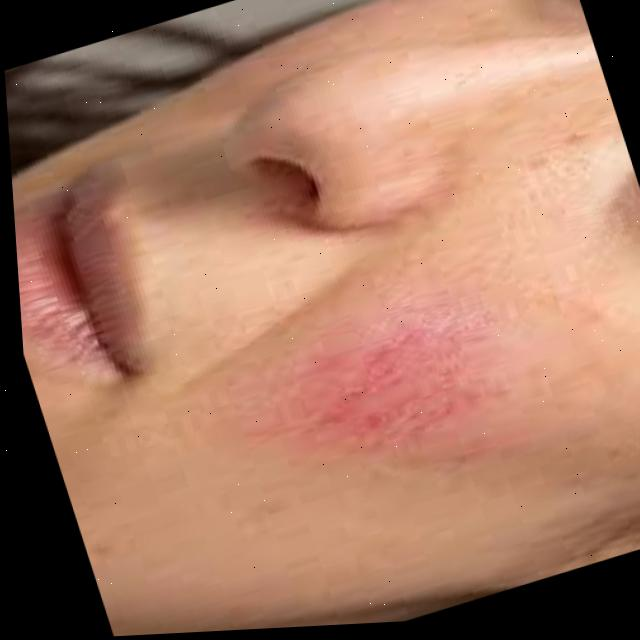Rosacea: (254, 294, 527, 489)
